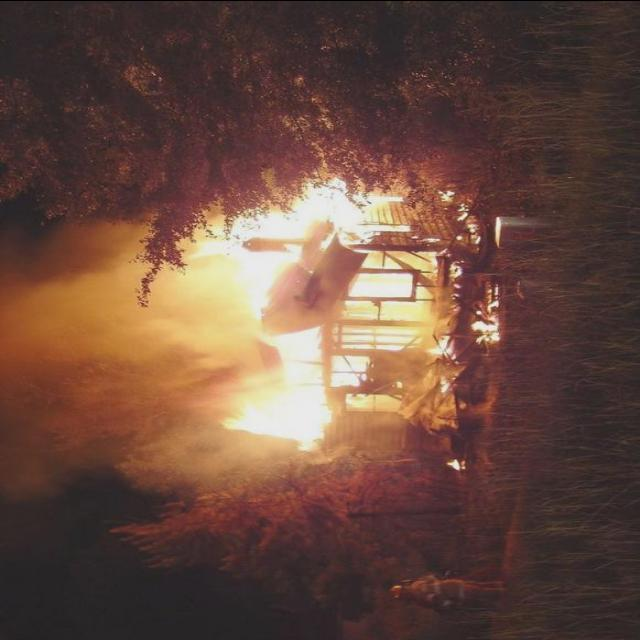Fire: (178, 176, 510, 460)
